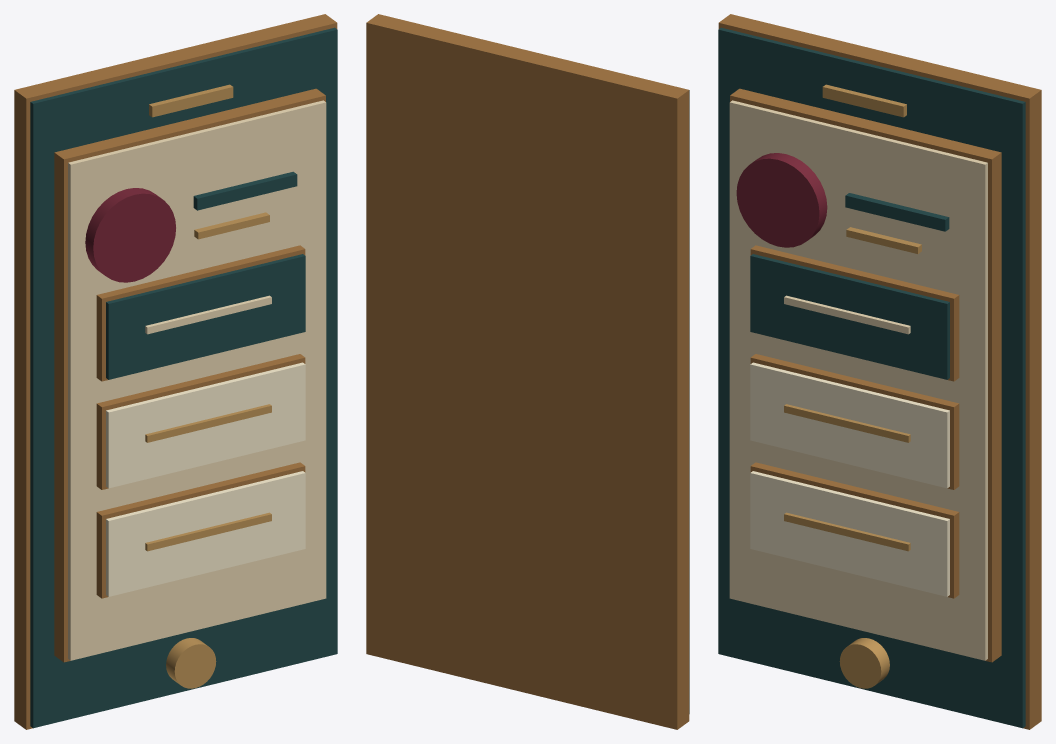
Rendered from phone.glb.
3 renders of one model, left to right at view 1: azimuth 30°, elevation 25°; view 2: azimuth 150°, elevation 25°; view 3: azimuth 330°, elevation 25°, orthographic.
Parts seen in each view (by area): view 1: screen-face, body-face, body-corrugation, interface-1-face, interface-0-face, interface-2-face, screen-corrugation, avatar, line (×3), interface-2-corrugation, interface-0-corrugation, interface-1-corrugation (+4 smaller); view 2: body-corrugation, body-face; view 3: screen-face, body-face, body-corrugation, interface-1-face, interface-0-face, interface-2-face, screen-corrugation, avatar, line (×3), interface-2-corrugation, interface-0-corrugation, interface-1-corrugation (+4 smaller).
Boxes of the visible parts, x1=… form: screen-face: x1=68, y1=100, x2=326, y2=660; body-face: x1=30, y1=27, x2=337, y2=728; body-corrugation: x1=14, y1=14, x2=337, y2=729; interface-1-face: x1=106, y1=362, x2=305, y2=488; interface-0-face: x1=106, y1=471, x2=305, y2=596; interface-2-face: x1=106, y1=254, x2=305, y2=379; screen-corrugation: x1=54, y1=88, x2=325, y2=662; avatar: x1=85, y1=188, x2=175, y2=282; line (×3): x1=145, y1=295, x2=271, y2=551; interface-2-corrugation: x1=96, y1=245, x2=305, y2=381; interface-0-corrugation: x1=96, y1=462, x2=305, y2=598; interface-1-corrugation: x1=96, y1=354, x2=305, y2=489; body-corrugation: x1=366, y1=14, x2=689, y2=729; body-face: x1=689, y1=90, x2=689, y2=713; screen-face: x1=729, y1=100, x2=987, y2=660; body-face: x1=718, y1=27, x2=1025, y2=728; body-corrugation: x1=718, y1=14, x2=1041, y2=729; interface-1-face: x1=750, y1=362, x2=949, y2=488; interface-0-face: x1=750, y1=471, x2=949, y2=596; interface-2-face: x1=750, y1=254, x2=949, y2=379; screen-corrugation: x1=730, y1=88, x2=1001, y2=662; avatar: x1=736, y1=153, x2=827, y2=247; line (×3): x1=784, y1=295, x2=910, y2=551; interface-2-corrugation: x1=750, y1=245, x2=959, y2=381; interface-0-corrugation: x1=750, y1=462, x2=959, y2=598; interface-1-corrugation: x1=750, y1=354, x2=959, y2=489.
Bounding box in the file's own units: 1.65 × 3.2 × 0.365.
